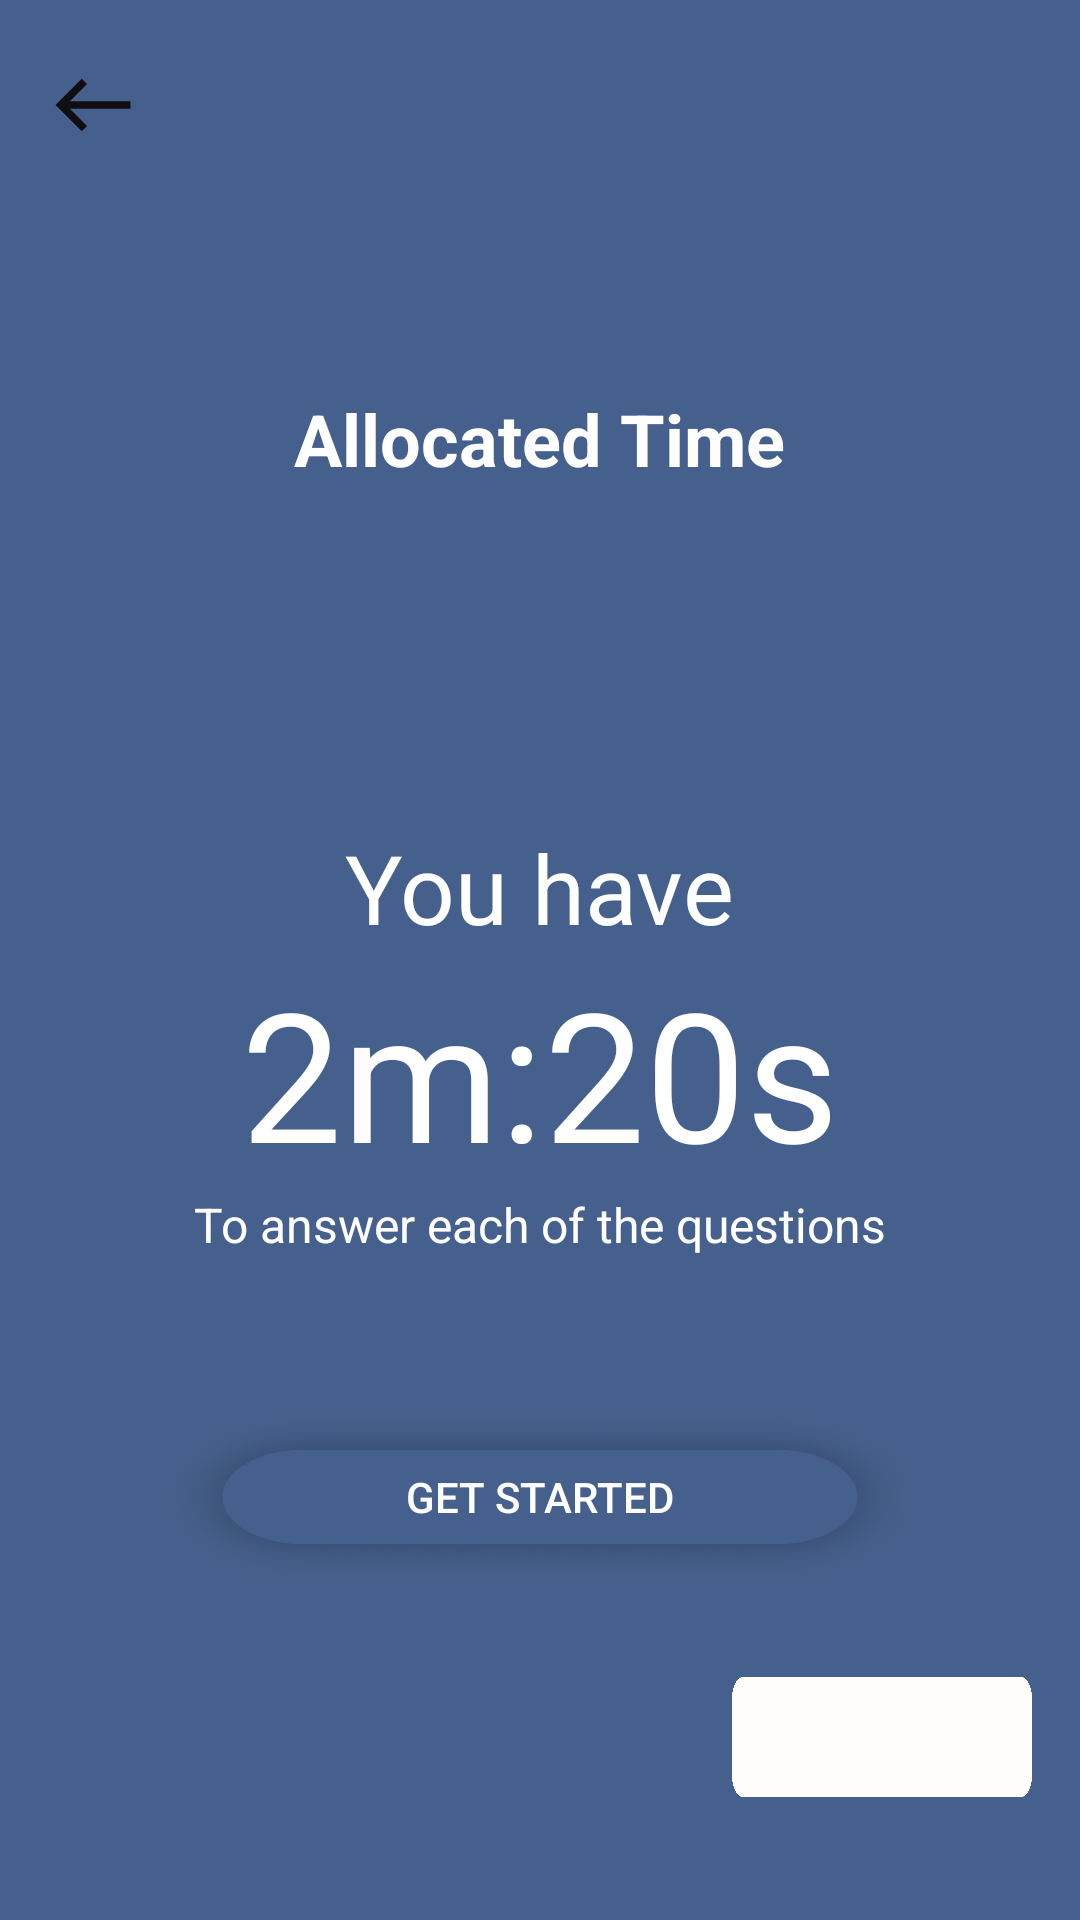

Screen size 1080×1920. Icon name, then its center in pixels as point (x, y):
west: point (93, 105)
